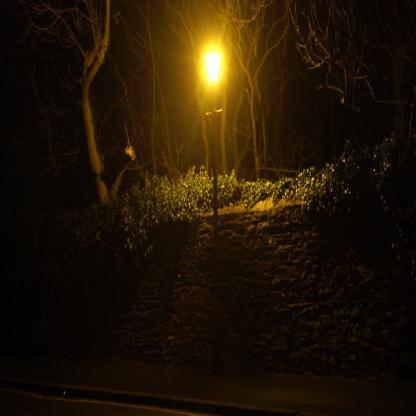other: (196, 39, 230, 91)
